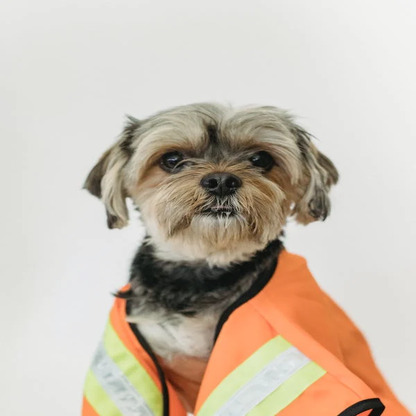yorkshire: (74, 100, 338, 266)
